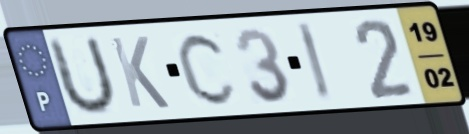2: (352, 14, 419, 101)
3: (233, 23, 295, 106)
C: (174, 29, 241, 108)
I: (292, 18, 337, 105)
K: (106, 34, 173, 111)
U: (45, 32, 119, 120)
